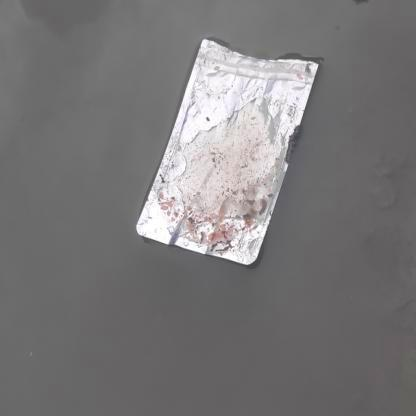Trash: (132, 37, 325, 271)
